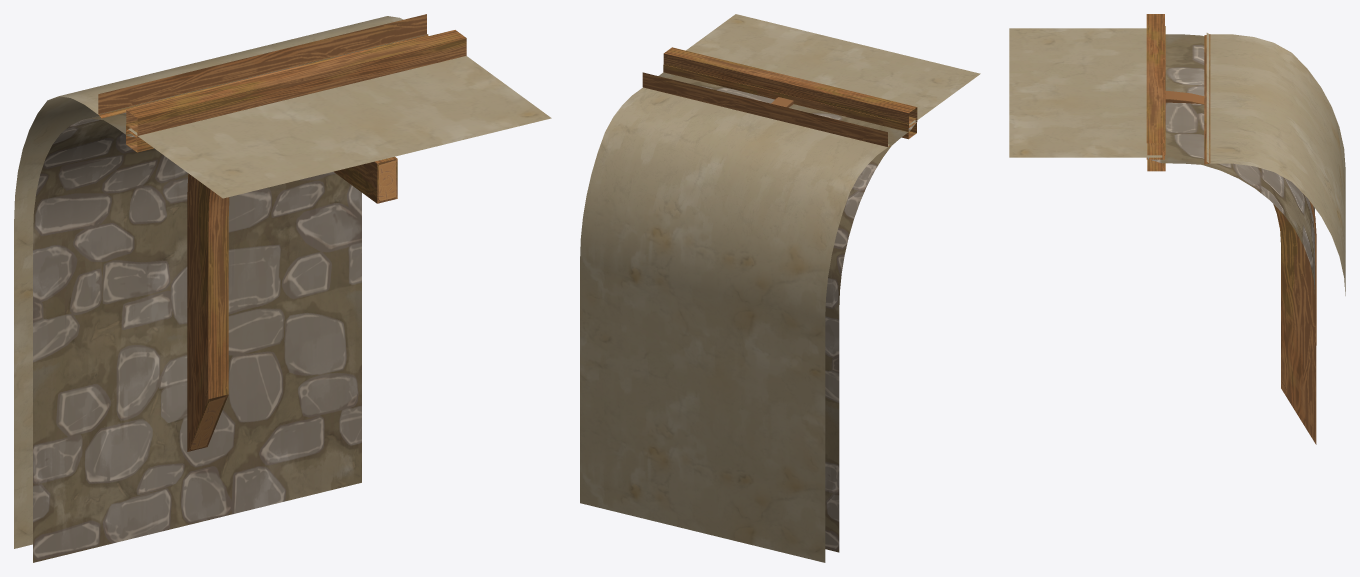
The model's file is overhang_uneven_brick_long.gltf.
3 renders of one model, left to right at view 1: azimuth 30°, elevation 25°; view 2: azimuth 150°, elevation 25°; view 3: azimuth 270°, elevation 25°, orthographic. The views are drawn at different scales.
Visible parts, largest first — view 1: Overhang_UnevenBrick_Long; view 2: Overhang_UnevenBrick_Long; view 3: Overhang_UnevenBrick_Long.
Part boxes in pixels (x1=…): Overhang_UnevenBrick_Long: x1=14, y1=14, x2=551, y2=562; Overhang_UnevenBrick_Long: x1=580, y1=14, x2=980, y2=562; Overhang_UnevenBrick_Long: x1=1009, y1=14, x2=1345, y2=444.
Bounding box in the file's own units: 2 × 3.03 × 2.2.
Materials: 3 (3 with a texture image).
